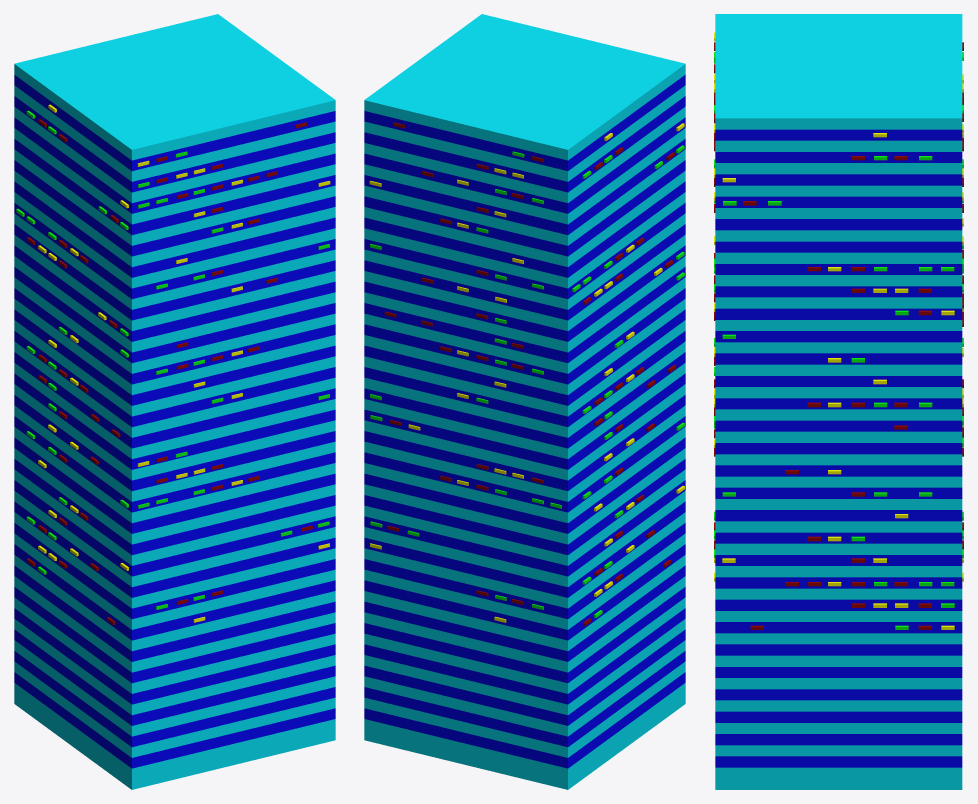
File: SM_Building06.FBX
3 views of the same model, side by side, from view 1: azimuth 30°, elevation 25°; view 2: azimuth 150°, elevation 25°; view 3: azimuth 270°, elevation 25° (orthographic). The views are drawn at different scales.
Parts seen in each view (by area): view 1: Box009; view 2: Box009; view 3: Box009.
Part boxes in pixels (x1,y1,x2,y2): Box009: (14, 14, 335, 789); Box009: (364, 14, 685, 789); Box009: (714, 14, 963, 789).
Bounding box in the file's own units: 40.91 × 120 × 40.48.
